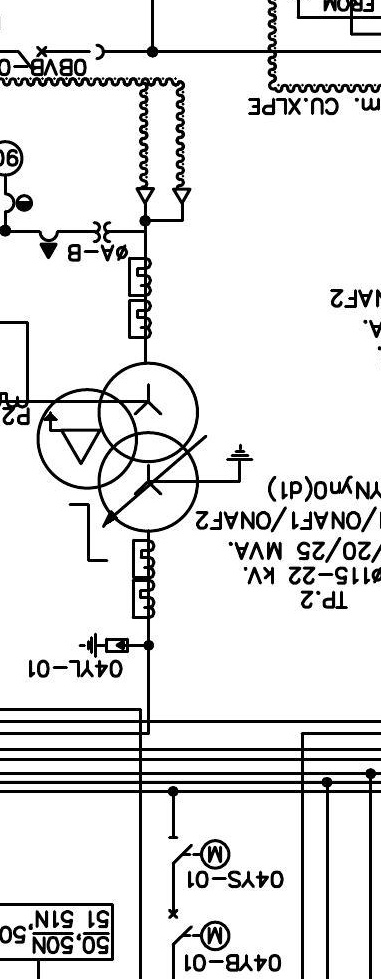11522_tx_ynyn0d1: (35, 360, 200, 534)
115_1way_ds_w_motor: (168, 836, 232, 871)
115_breaker: (167, 908, 194, 945)
115_la: (78, 632, 130, 659)
terminator_double: (135, 187, 192, 223)
